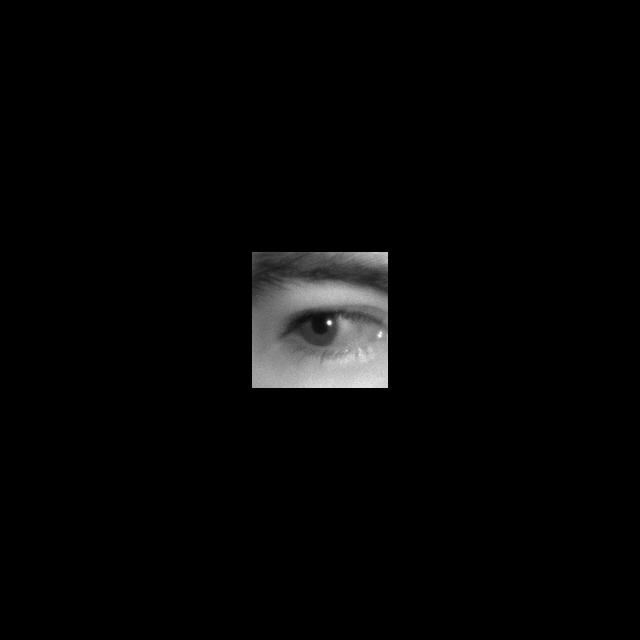eye: (296, 312, 380, 347)
iris: (301, 313, 337, 346)
